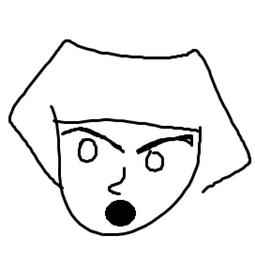empty_eye: (74, 134, 101, 167), (143, 150, 167, 177)
frowning_eyebrow: (62, 125, 128, 155), (137, 133, 194, 153)
nose: (107, 164, 134, 197)
open_mouth: (101, 197, 140, 227)
